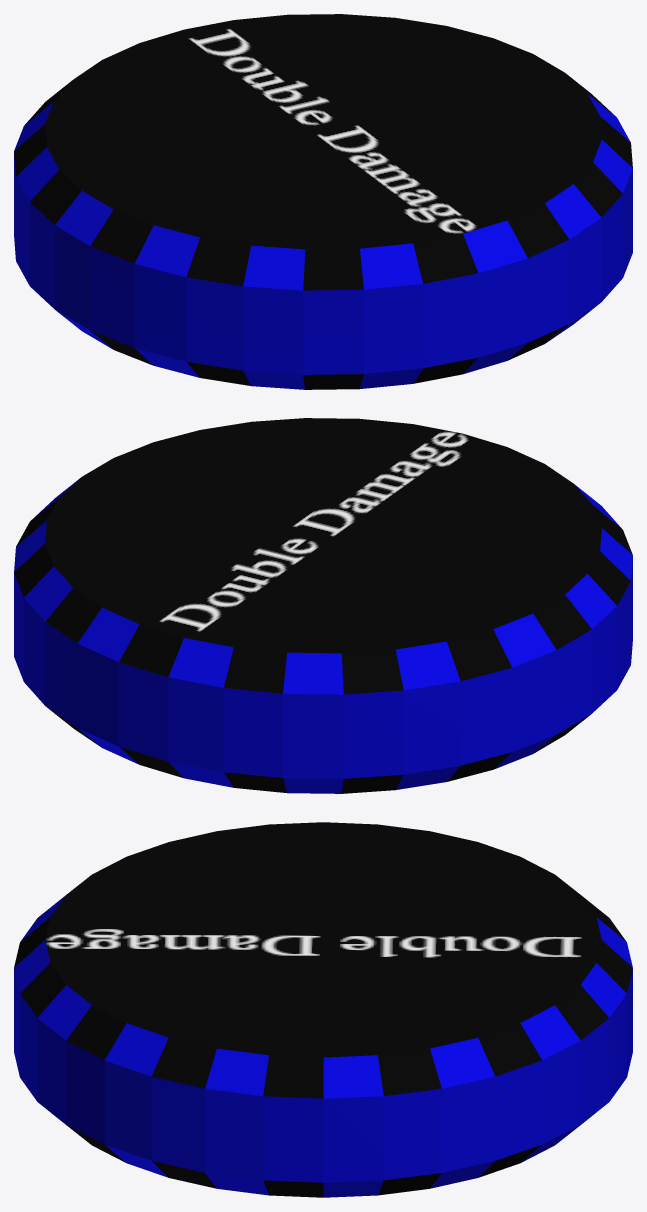
Rendered from Double_Damage.fbx.
The picture shows the model from 3 angles, top to bottom: view 1: azimuth 30°, elevation 25°; view 2: azimuth 150°, elevation 25°; view 3: azimuth 270°, elevation 25°; orthographic projection.
Parts seen in each view (by area): view 1: Cylinder; view 2: Cylinder; view 3: Cylinder.
Boxes of the visible parts, box(x1,y1,x2,y2) form: Cylinder: box(14, 14, 632, 389); Cylinder: box(14, 418, 632, 793); Cylinder: box(14, 822, 632, 1197).
Bounding box in the file's own units: 200 × 50 × 200.
Materials: 1 (1 with a texture image).
